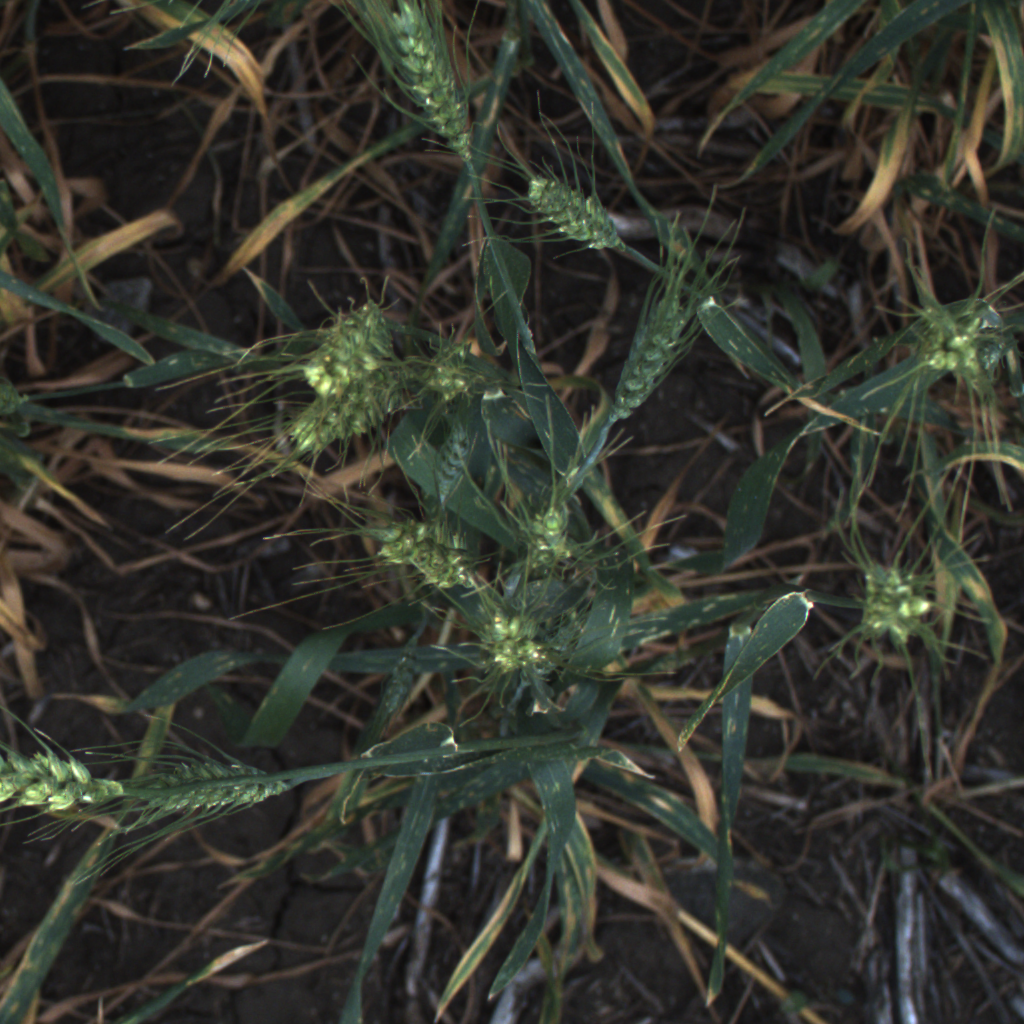wheat_head: (370, 3, 484, 175), (594, 271, 697, 446), (274, 350, 426, 459), (0, 720, 126, 834), (128, 741, 295, 823), (508, 154, 634, 258), (294, 282, 398, 395), (357, 514, 492, 599), (413, 320, 501, 410), (859, 561, 939, 644), (935, 306, 1008, 379), (471, 612, 541, 675), (523, 493, 575, 566), (430, 434, 459, 491)
